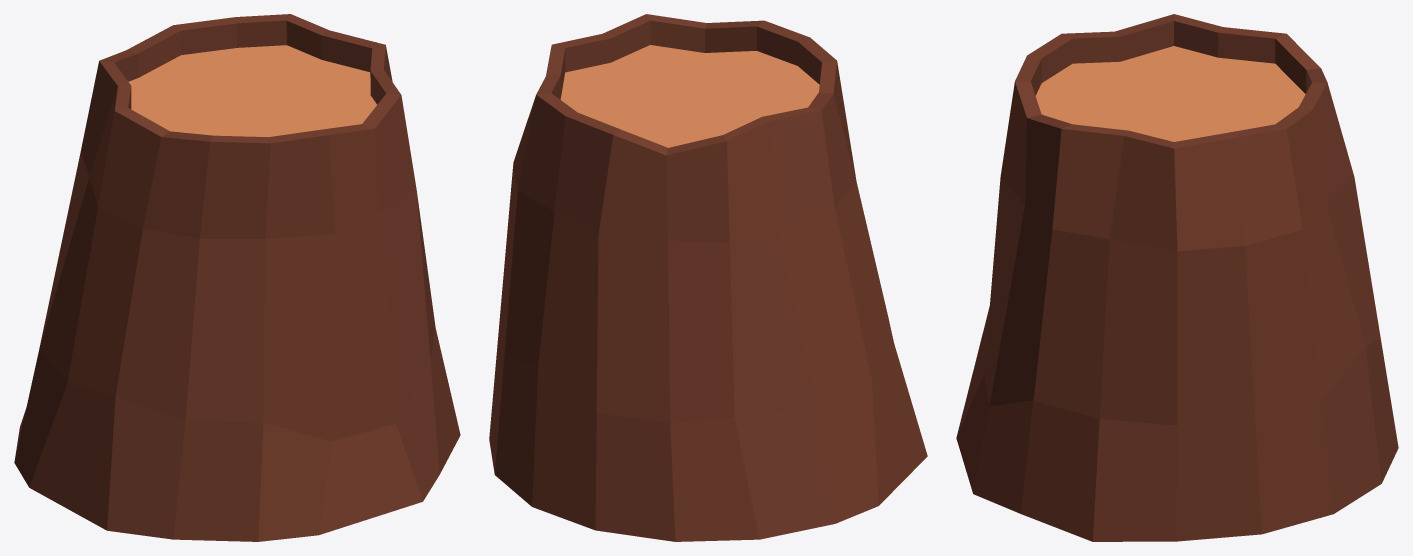
Rendered from pine_trunk_type_3_LOD0.fbx.
The picture shows the model from 3 angles, left to right: view 1: azimuth 30°, elevation 25°; view 2: azimuth 150°, elevation 25°; view 3: azimuth 270°, elevation 25°; orthographic projection. The views are drawn at different scales.
Visible parts, largest first — view 1: pt_type_3; view 2: pt_type_3; view 3: pt_type_3.
Boxes of the visible parts, x1,y1,x2,y2 form: pt_type_3: (14, 14, 460, 541); pt_type_3: (489, 14, 927, 541); pt_type_3: (956, 14, 1398, 541).
Size of the model in its own units: 201 by 188 by 200.
